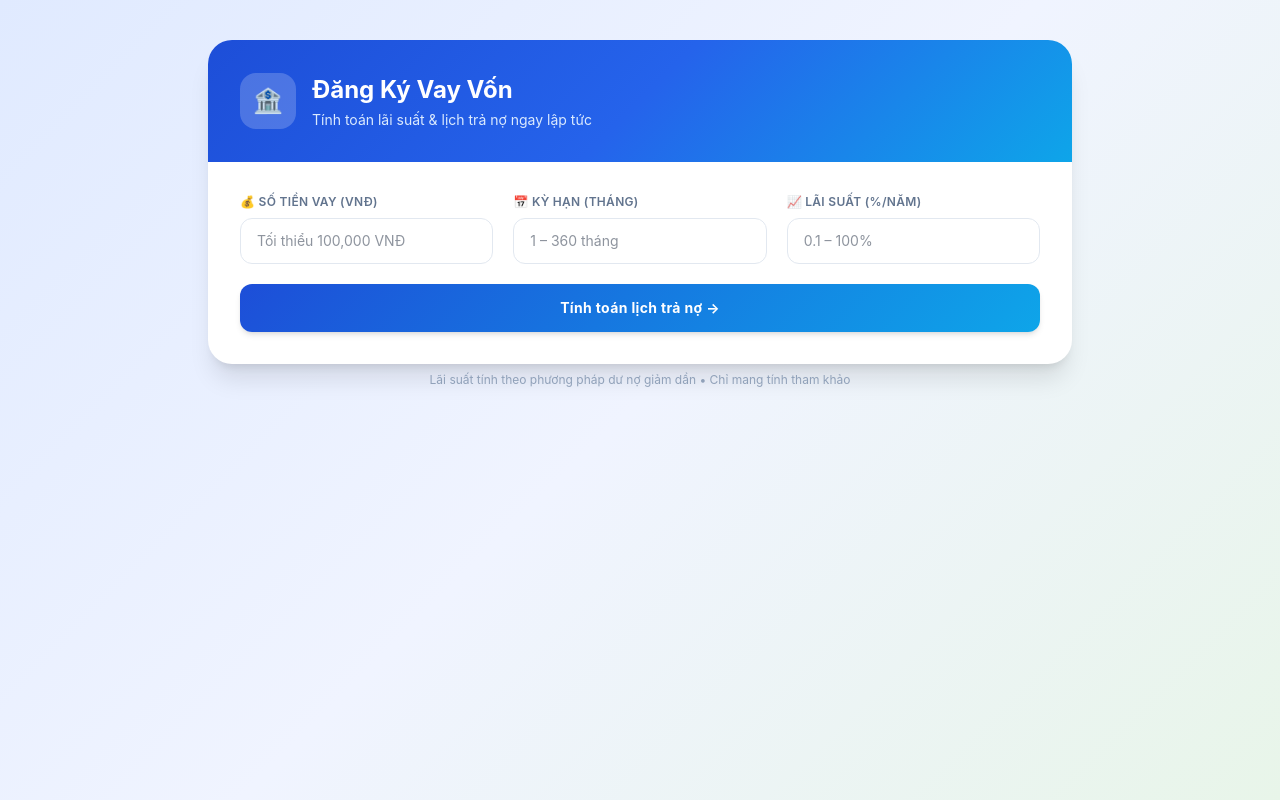
Scenario: LoanRegistrationForm — validation errors › shows all three validation errors when submitting an empty form
Click the button "Tính toán lịch trả nợ →" at [640, 308], box [240,284,1040,332]
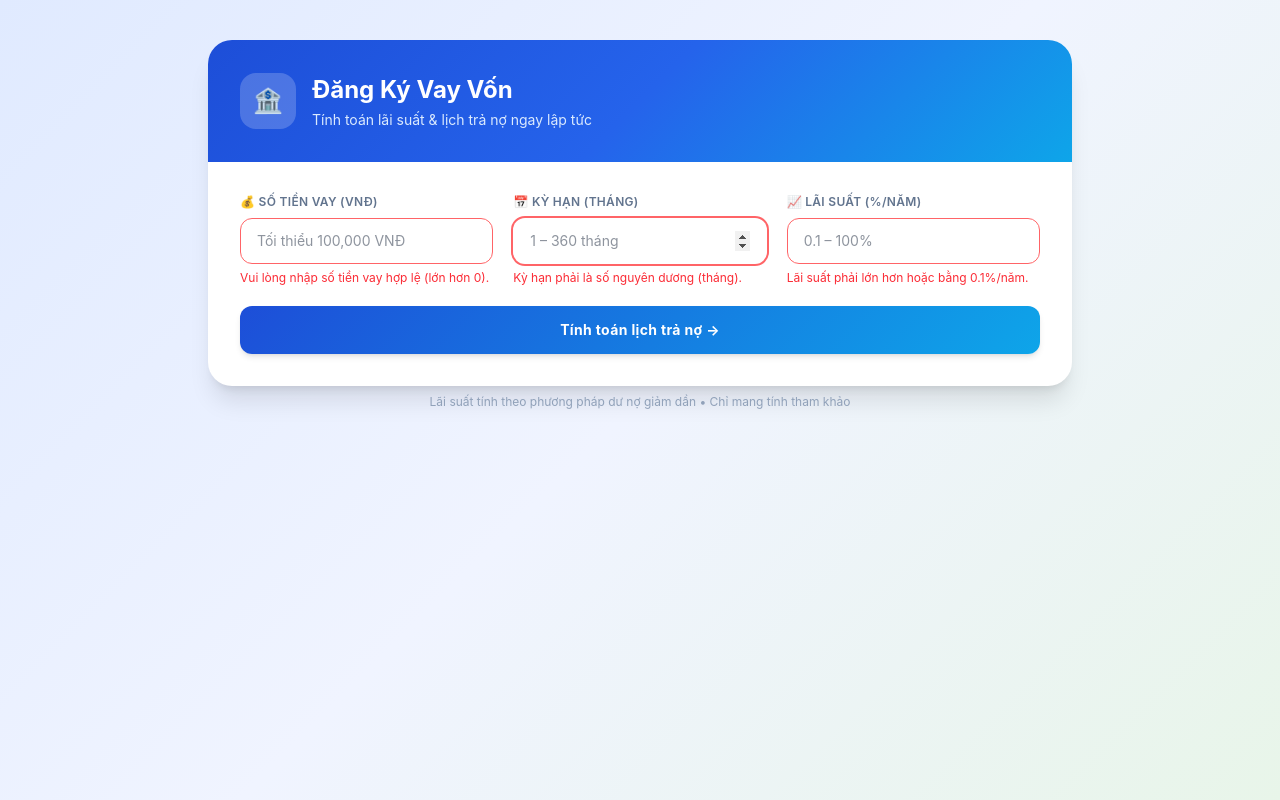
Expected: the text "Vui lòng nhập số tiền vay hợp lệ (lớn hơn 0)." is shown, [240,270,493,286]
Expected: the text "Kỳ hạn phải là số nguyên dương (tháng)." is shown, [513,270,767,286]
Expected: the text "Lãi suất phải lớn hơn hoặc bằng 0.1%/năm." is shown, [787,270,1040,286]
